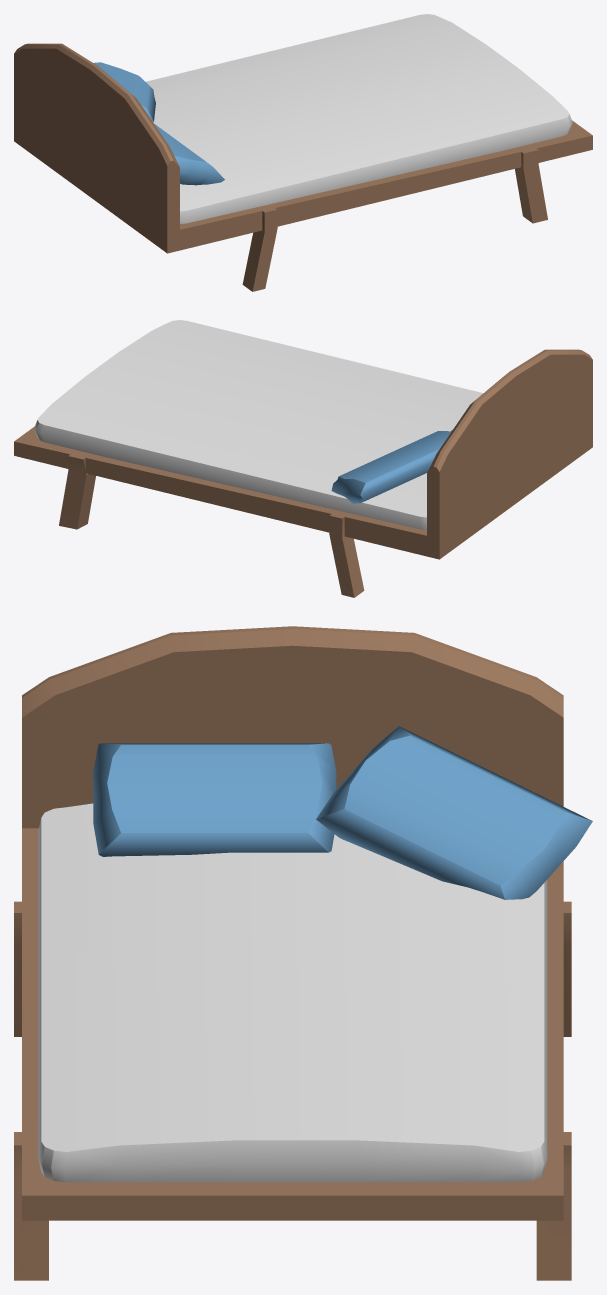
File: Bed.fbx
3 views of the same model, one above another, from view 1: azimuth 30°, elevation 25°; view 2: azimuth 150°, elevation 25°; view 3: azimuth 270°, elevation 25° (orthographic). The views are drawn at different scales.
Parts seen in each view (by area): view 1: pCube7; view 2: pCube7; view 3: pCube7.
Part boxes in pixels (x1=…): pCube7: x1=14, y1=14, x2=592, y2=291; pCube7: x1=14, y1=320, x2=592, y2=597; pCube7: x1=14, y1=626, x2=592, y2=1280.
Size of the model in its own units: 25.87 by 10.93 by 17.27.
